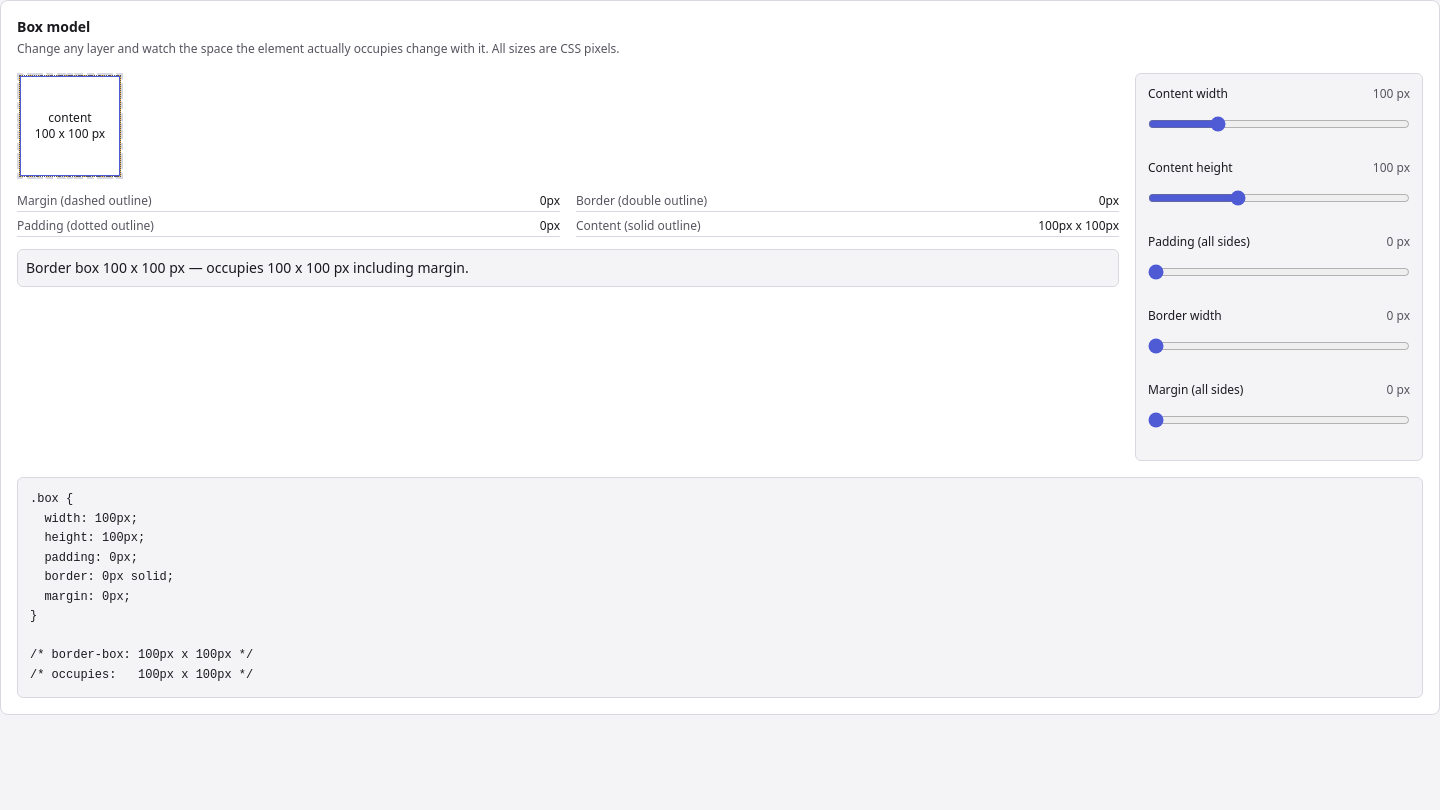
Scenario: BoxModelVisualizer › recomputes the total when a slider changes
The image size is (1440, 810).
Set the slider labelled "Padding (all sides) 0 px" to "20". click: (1238, 272)
box: [1148, 250, 1410, 294]
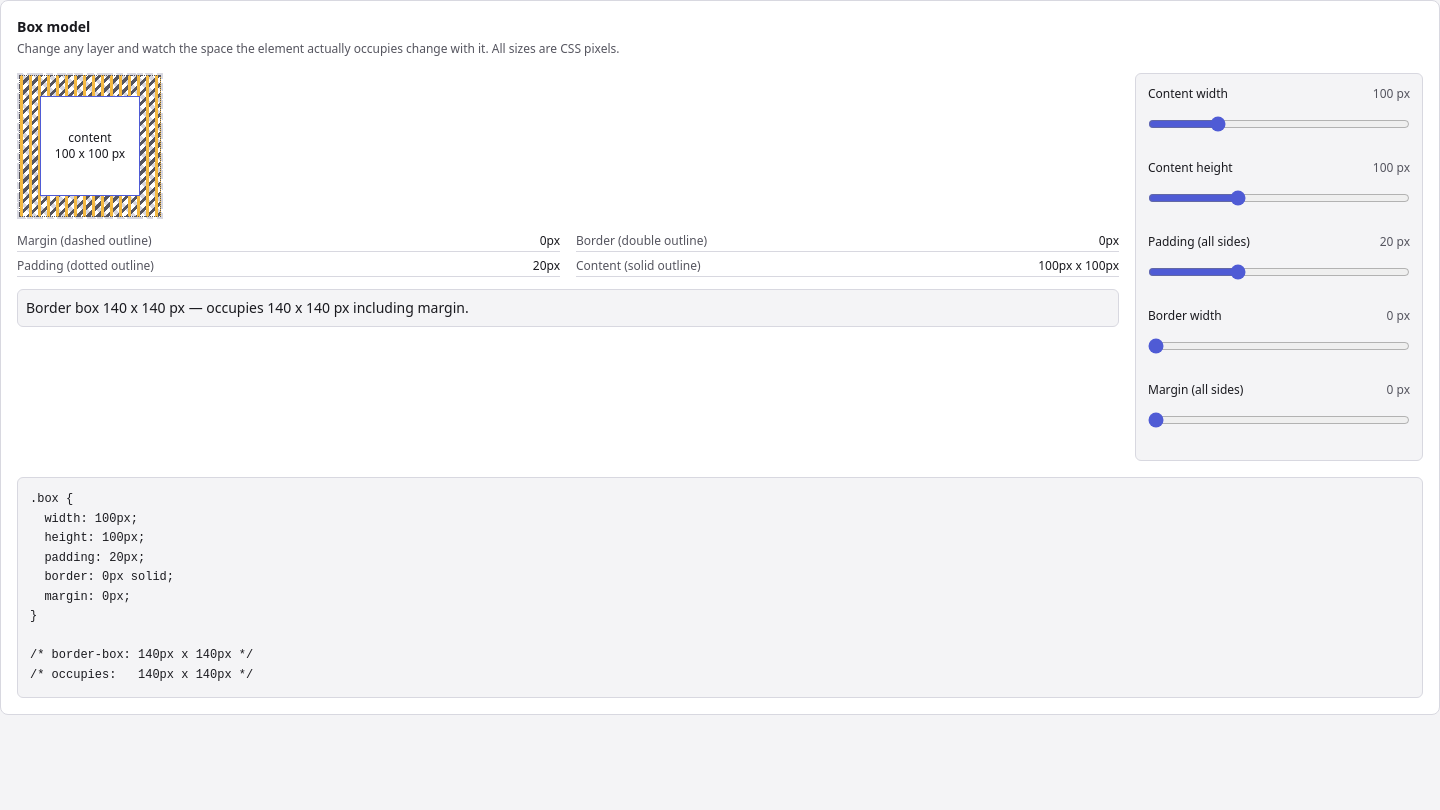
expect the text with test id "box-model-total" shows "140 x 140 px": met, box [17, 289, 1119, 327]
